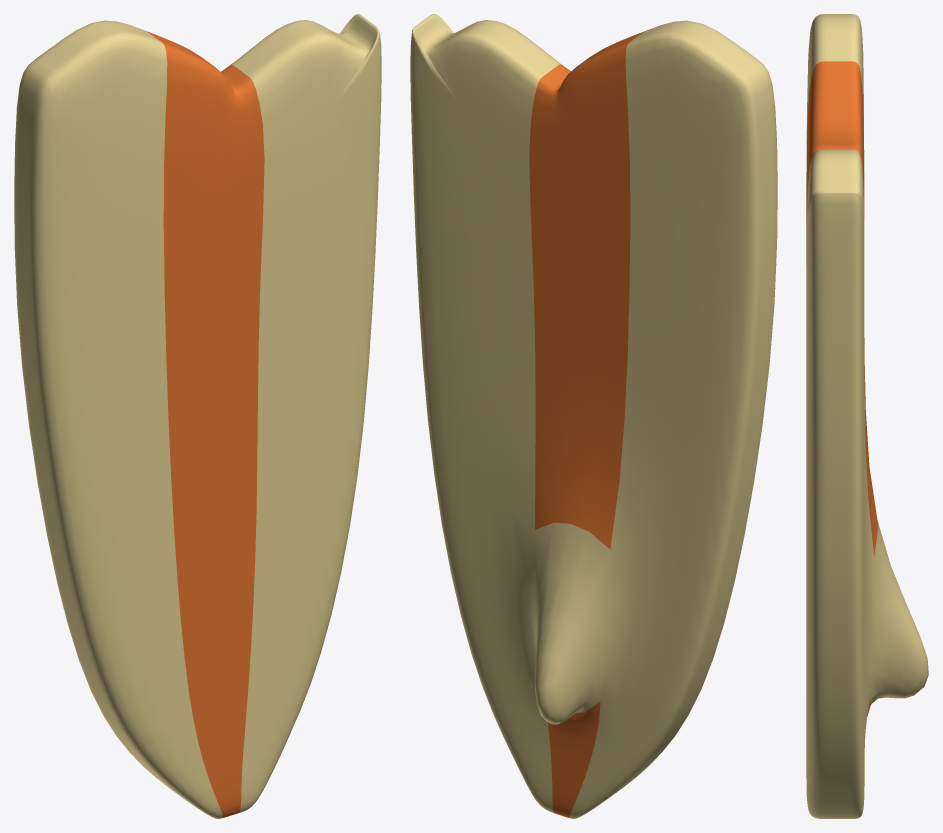
File: Surf Board Bottom.fbx
3 renders of one model, left to right at view 1: azimuth 30°, elevation 25°; view 2: azimuth 150°, elevation 25°; view 3: azimuth 270°, elevation 25°, orthographic. The views are drawn at different scales.
Visible parts, largest first — view 1: Surf Board Bottom; view 2: Surf Board Bottom; view 3: Surf Board Bottom.
Boxes of the visible parts, bbox=[...] form: Surf Board Bottom: bbox=[14, 14, 381, 818]; Surf Board Bottom: bbox=[410, 14, 777, 818]; Surf Board Bottom: bbox=[806, 14, 928, 818].
Size of the model in its own units: 0.9548 by 2.12 by 0.3167.
